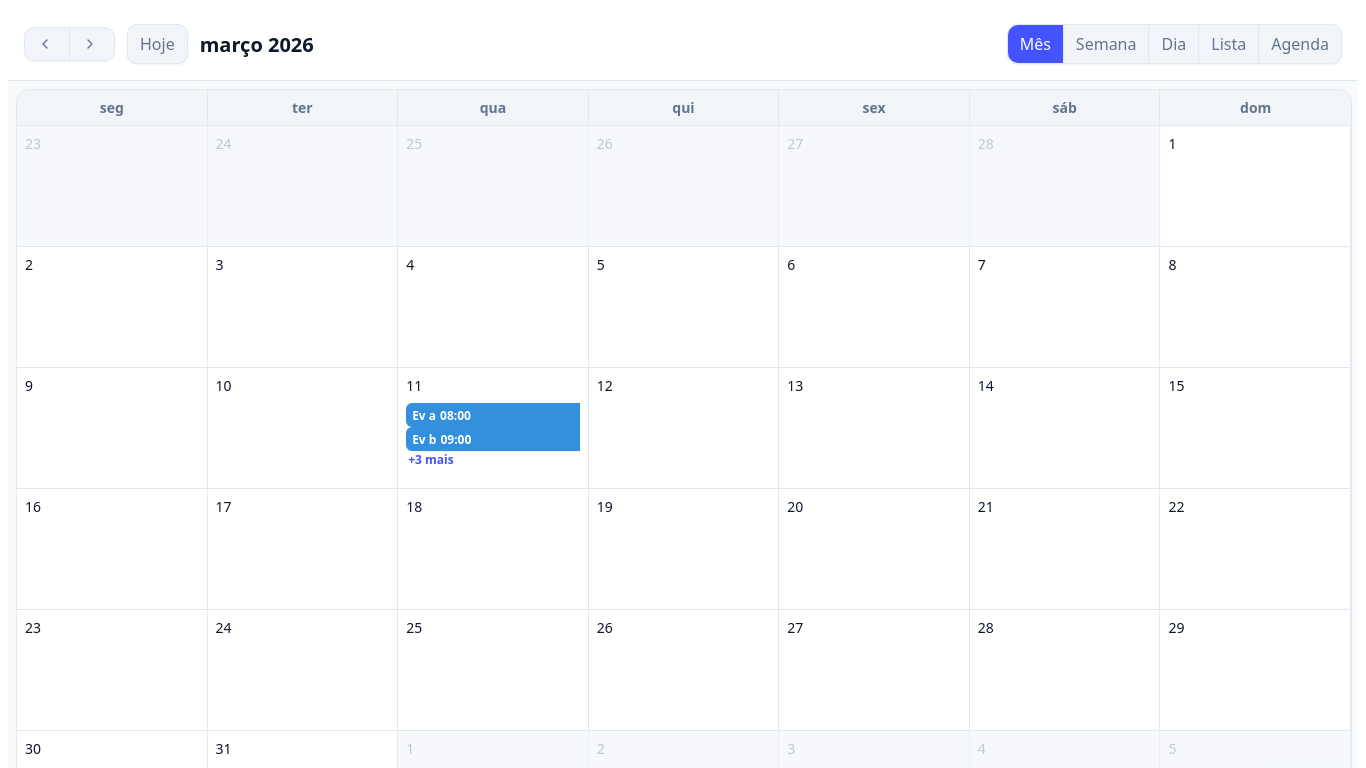
Calendar FullCalendar options › dayMaxEvents: "fit" › puts the link under the events with moreLinkPosition "bottom"
Expected: the number of buttons with class "react-agendfy-event-item" is 2, 406,403 -> 580,427; 406,427 -> 580,451
Step 1. Click the button "+3 mais" → (431, 460), box 406,451 -> 456,468
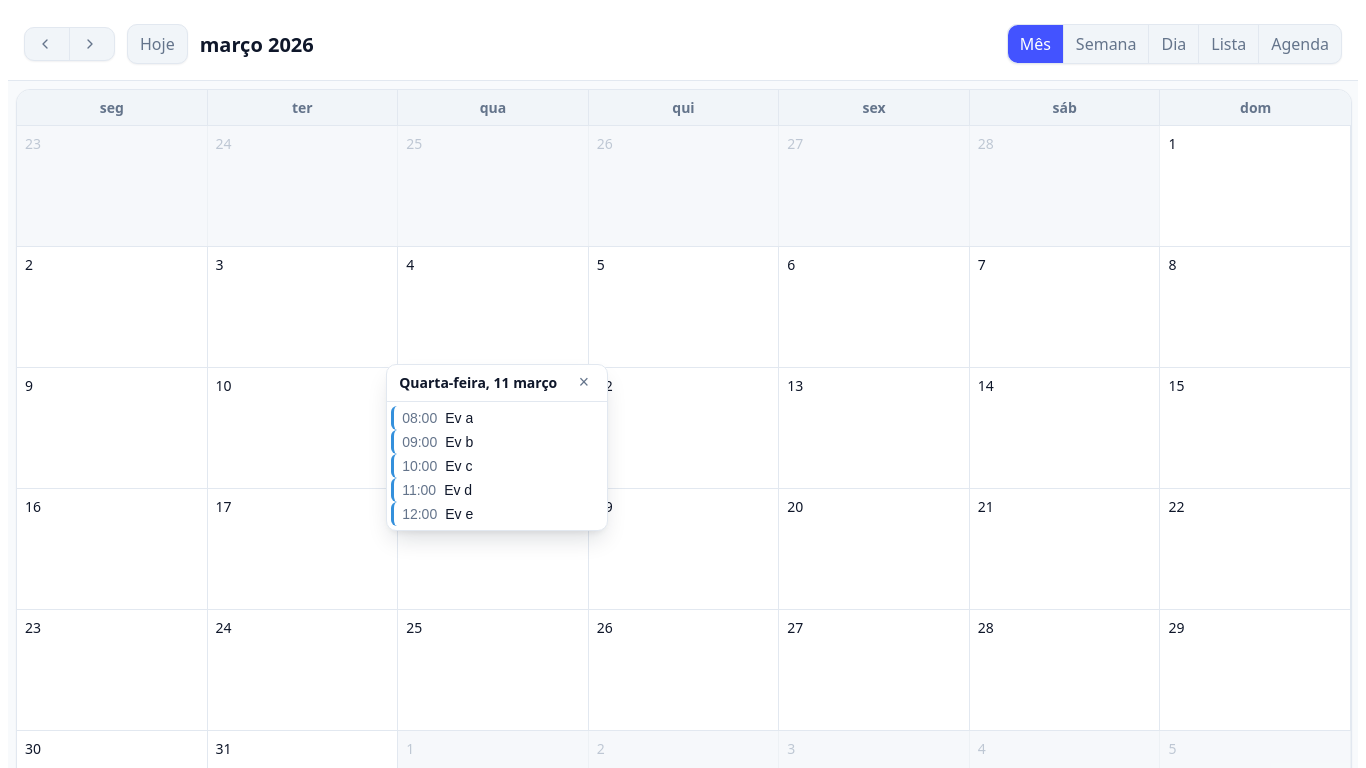
Expected: the dialog is shown, 386,364 -> 608,531
